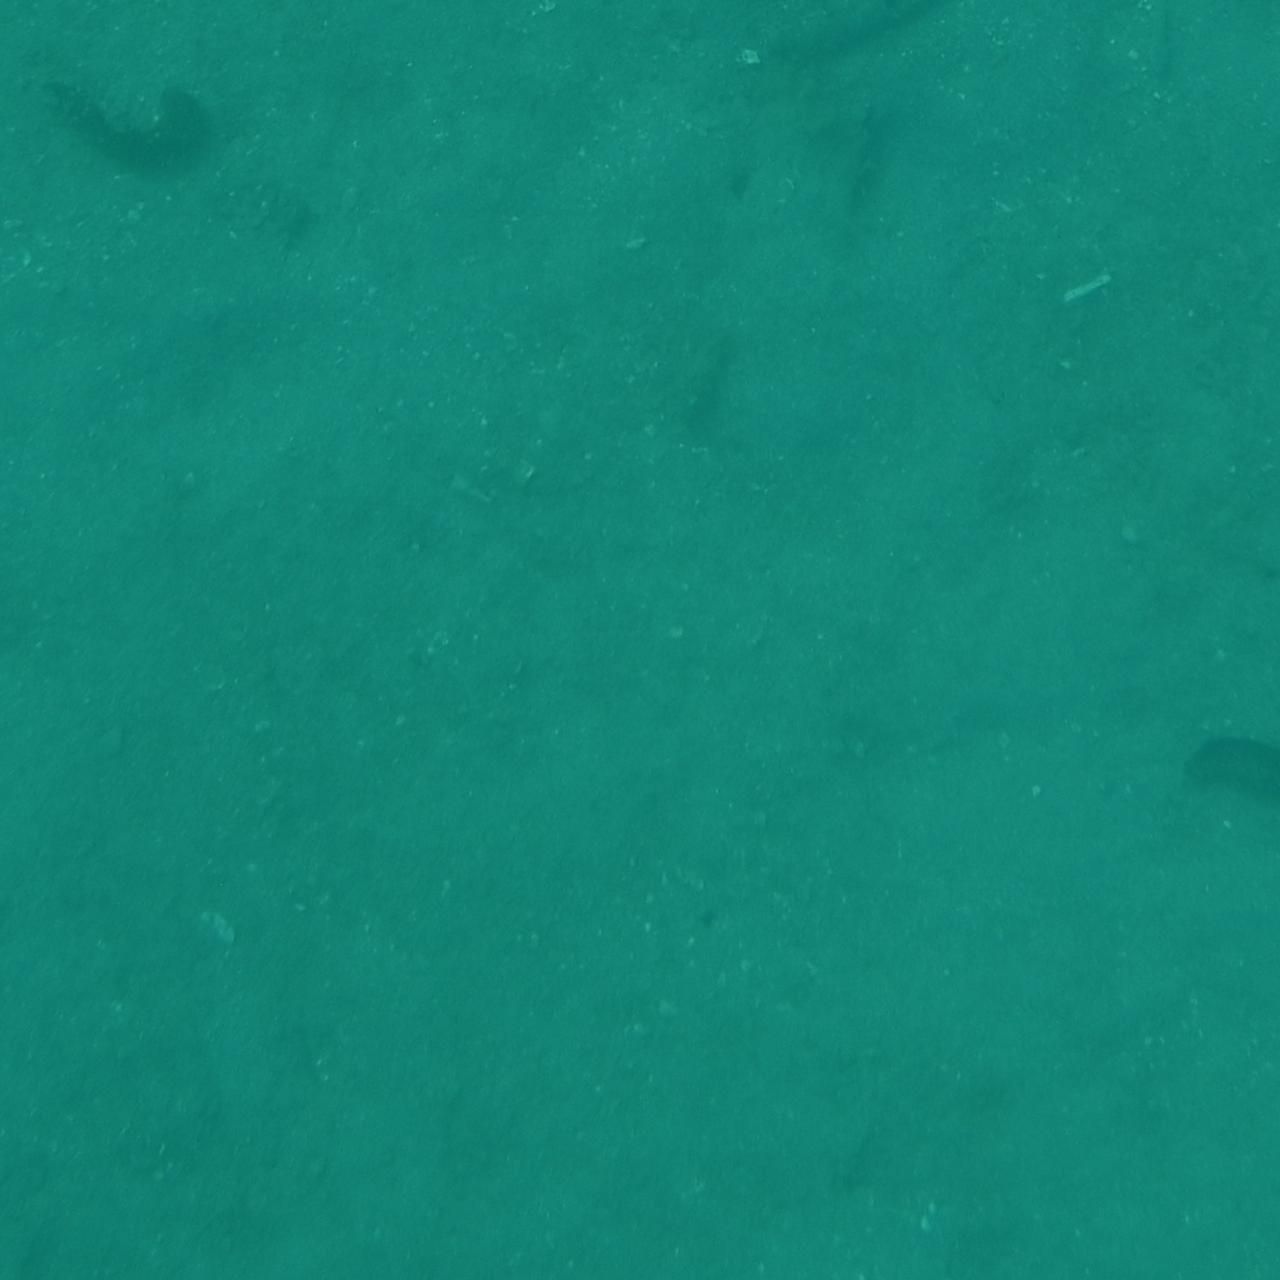Holothuria tubulosa: (1162, 811, 1280, 1191), (26, 62, 248, 200), (1175, 1054, 1280, 1276), (1185, 306, 1280, 540), (0, 900, 73, 1198), (1152, 654, 1280, 813), (1212, 856, 1280, 1129), (0, 933, 66, 1208), (742, 0, 968, 77), (0, 0, 120, 125), (0, 1183, 147, 1280), (0, 96, 68, 304), (0, 68, 137, 162), (0, 0, 59, 190), (1205, 1189, 1280, 1280)
